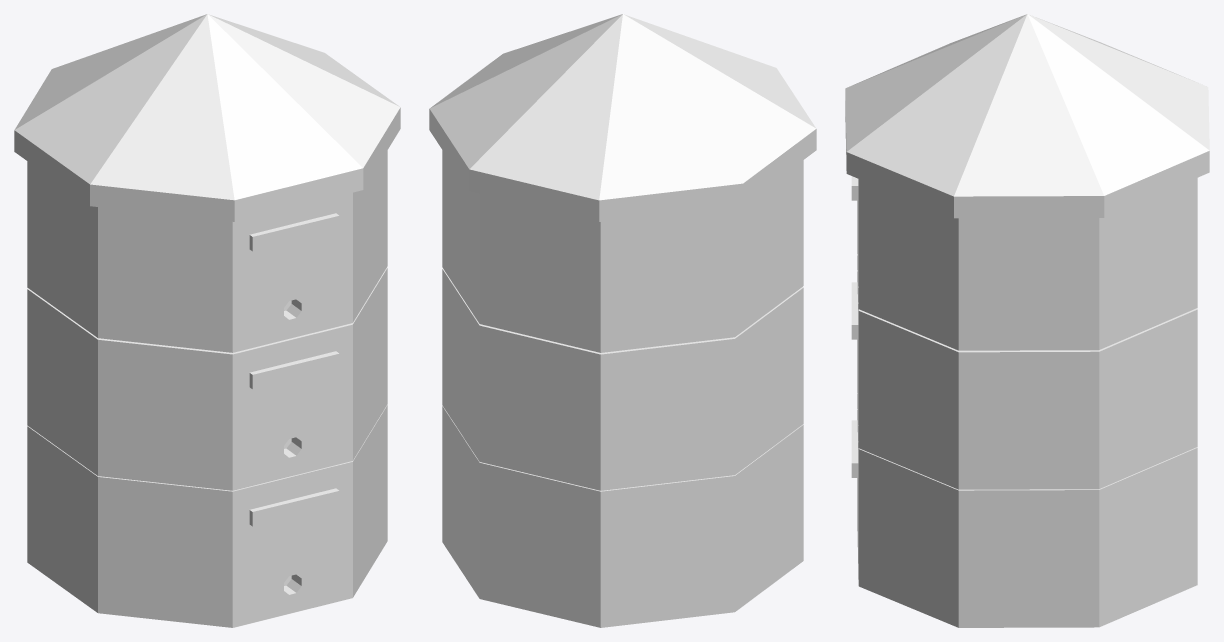
The model's file is Bld_Beehive_03.glb.
3 renders of one model, left to right at view 1: azimuth 30°, elevation 25°; view 2: azimuth 150°, elevation 25°; view 3: azimuth 270°, elevation 25°, orthographic.
Visible parts, largest first — view 1: Bld_Beehive_03; view 2: Bld_Beehive_03; view 3: Bld_Beehive_03.
Boxes of the visible parts, box(x1,y1,x2,y2) form: Bld_Beehive_03: box(14, 14, 400, 627); Bld_Beehive_03: box(429, 14, 816, 627); Bld_Beehive_03: box(845, 14, 1209, 627).
Bounding box in the file's own units: 0.6439 × 1.06 × 0.6439.
Materials: 1 (1 with a texture image).
